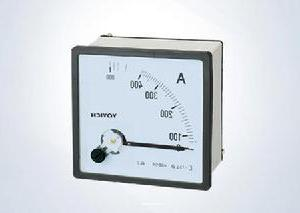pointer: (78, 54, 203, 183)
